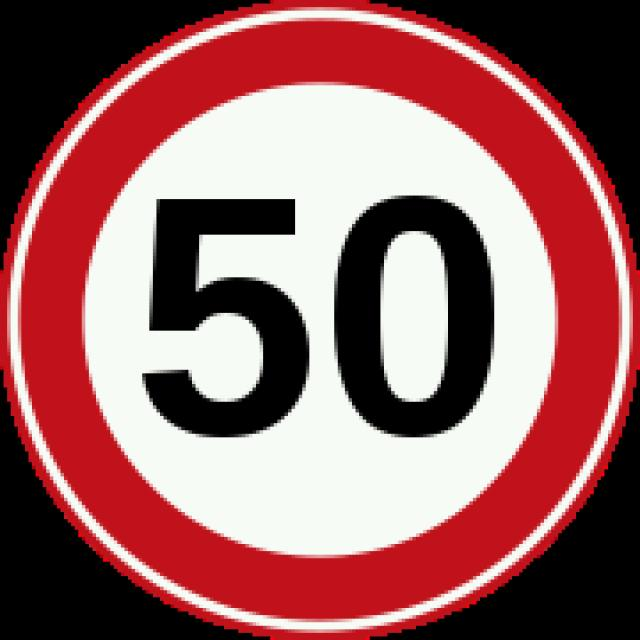Speed Limit -50-: (131, 185, 505, 448)
